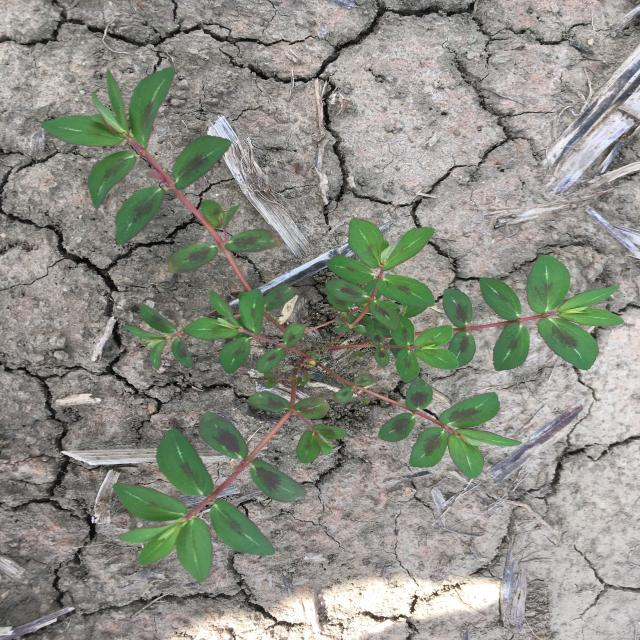SpottedSpurge: (40, 67, 624, 582)
